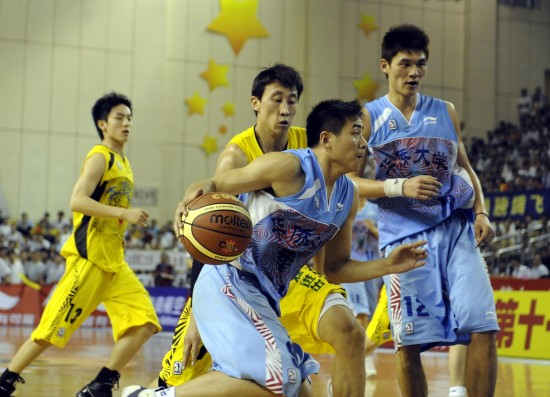ball: (178, 192, 253, 265)
